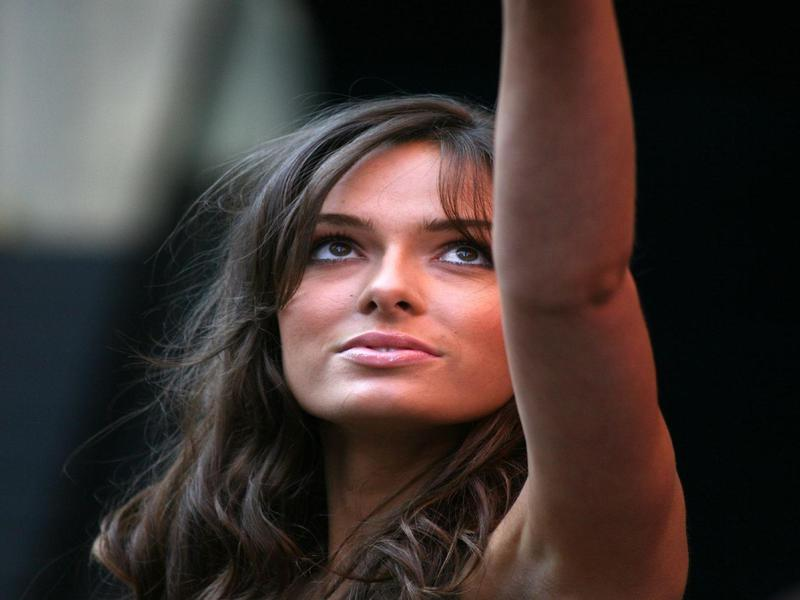person: (112, 75, 709, 600)
